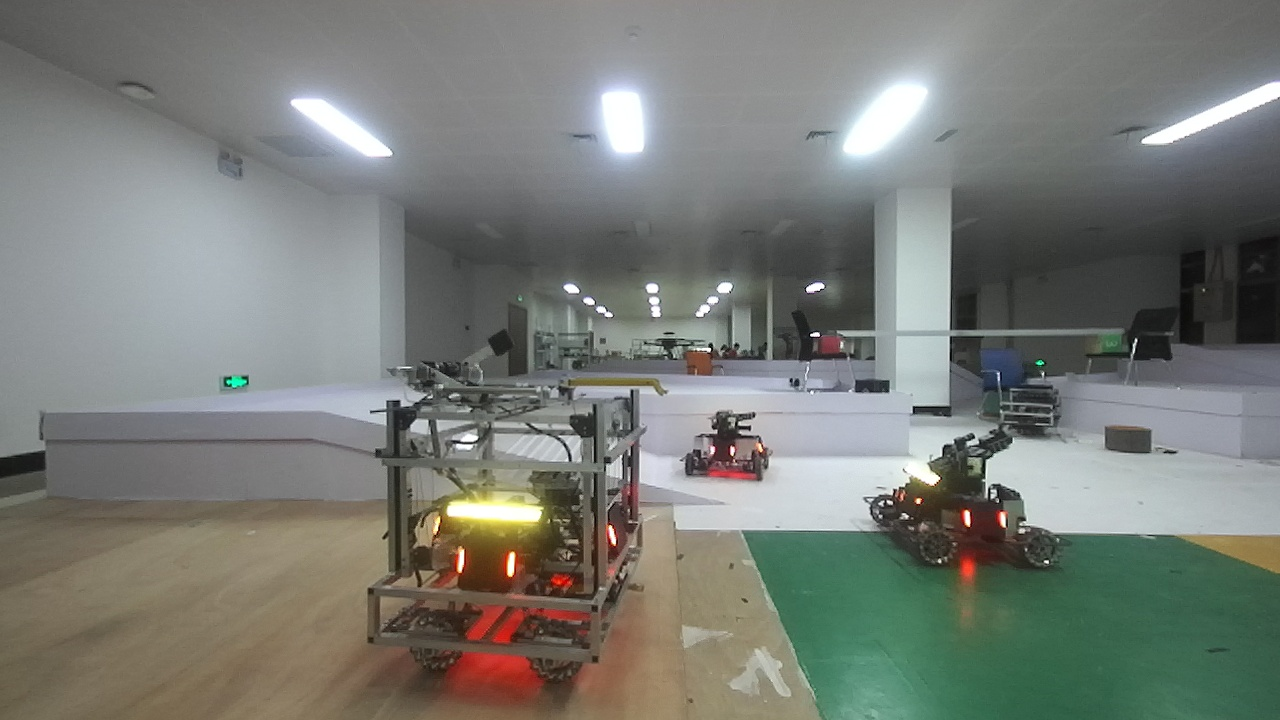car: (369, 377, 667, 695), (862, 419, 1067, 579), (679, 399, 774, 488)
